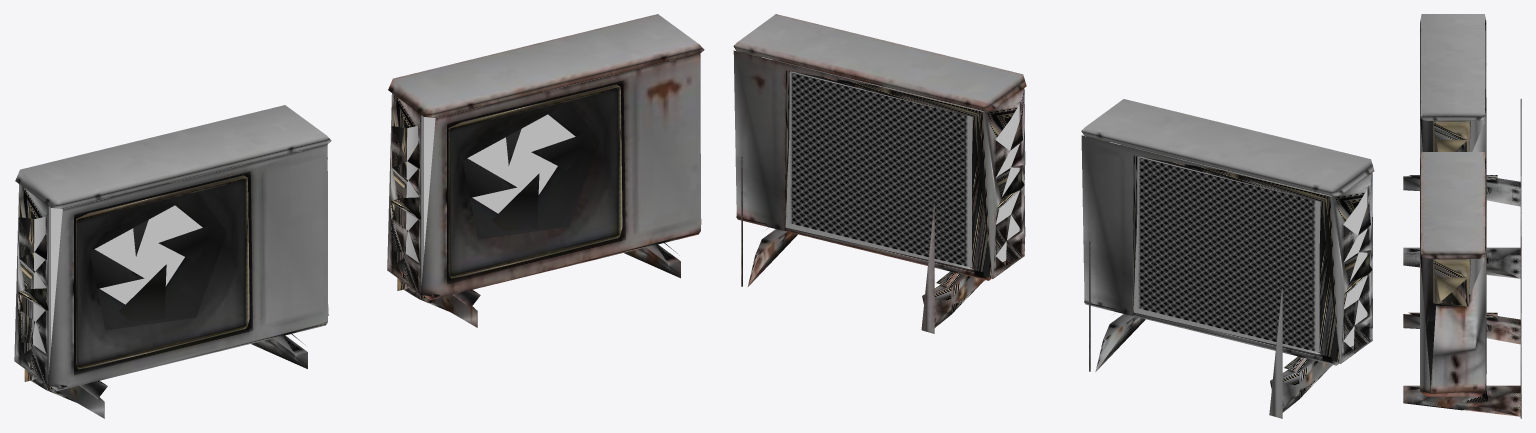
File: cuc-nong.glb
3 views of the same model, side by side, from view 1: azimuth 30°, elevation 25°; view 2: azimuth 150°, elevation 25°; view 3: azimuth 270°, elevation 25° (orthographic). The views are drawn at different scales.
Parts seen in each view (by area): view 1: exterior_aircon_unit_rusted, exterior_aircon_unit; view 2: exterior_aircon_unit, exterior_aircon_unit_rusted; view 3: exterior_aircon_unit_rusted, exterior_aircon_unit.
Part boxes in pixels (x1,y1,x2,y2): exterior_aircon_unit_rusted: [387, 14, 704, 327]; exterior_aircon_unit: [14, 105, 331, 418]; exterior_aircon_unit: [1081, 99, 1374, 418]; exterior_aircon_unit_rusted: [733, 14, 1026, 333]; exterior_aircon_unit_rusted: [1403, 152, 1521, 418]; exterior_aircon_unit: [1403, 14, 1521, 278].
Size of the model in its own units: 0.9781 by 0.3377 by 0.2013.
4 materials, 4 textured.
